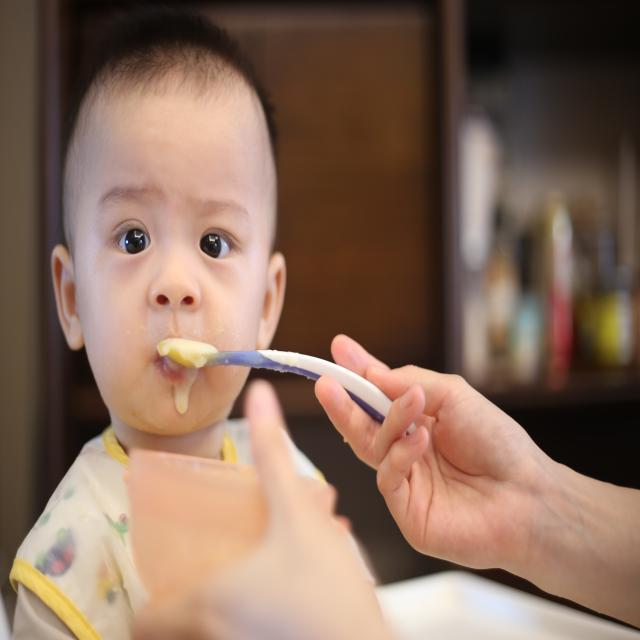non-dog: (8, 1, 321, 640), (138, 334, 640, 640)
